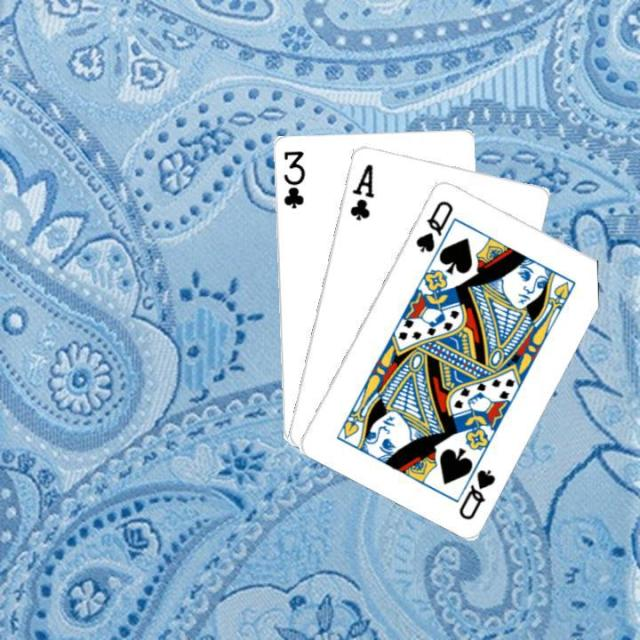3C: (279, 146, 307, 210)
AC: (345, 160, 375, 222)
QS: (412, 196, 455, 254), (454, 465, 497, 522)
